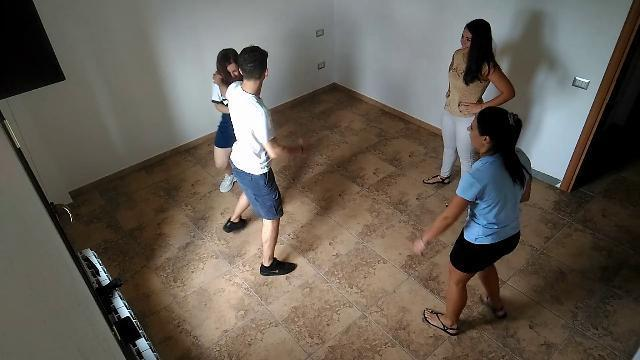non-violence: (414, 105, 524, 337), (419, 16, 518, 192)
violence: (208, 46, 302, 276)
